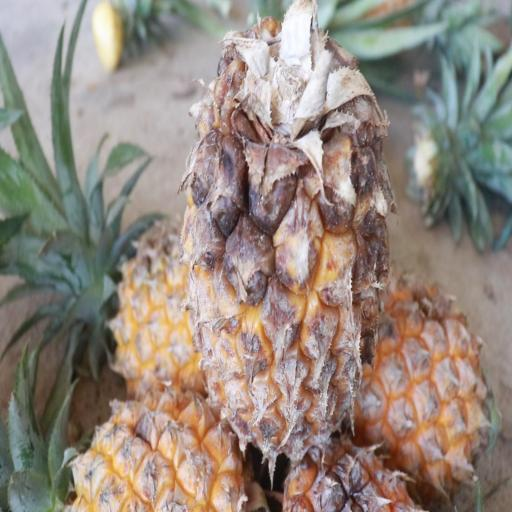Pineapple - v8 v1: (174, 0, 388, 463), (358, 266, 508, 512), (88, 192, 264, 378), (58, 381, 273, 512)
